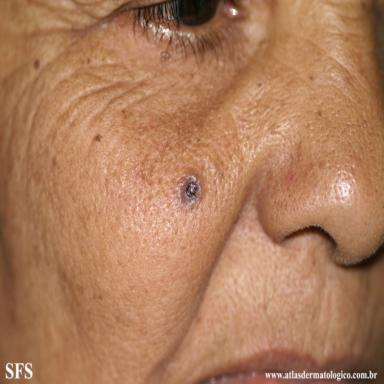basal-cell-carcinoma: (178, 168, 204, 206)
